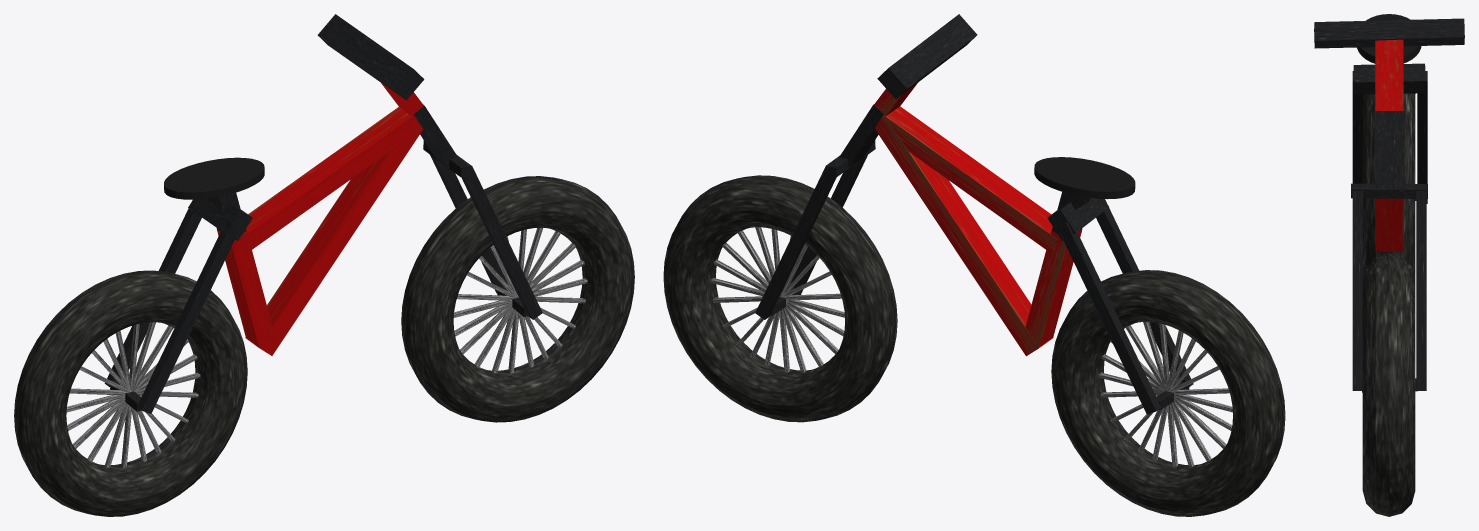
Rendered from bike.fbx.
3 renders of one model, left to right at view 1: azimuth 30°, elevation 25°; view 2: azimuth 150°, elevation 25°; view 3: azimuth 270°, elevation 25°, orthographic.
Parts seen in each view (by area): view 1: Torus, Torus.001, Cube.016, Cube.019, Cube.021, Cube.036, Cylinder, Cube.017, Cube.013, Cube.034, Cube.035, Cube (+8 smaller); view 2: Torus, Torus.001, Cube.016, Cube.019, Cube.034, Cylinder, Cube.036, Cube.017, Cube, Cube.021, Cube.035, Cube.015 (+8 smaller); view 3: Torus, Torus.001, Cube.036, Cube.015, Cube, Cube.013, Cube.020, Cube.016, Cube.035, Cube.034, Cube.021, Cube.014 (+1 smaller).
Boxes of the visible parts, bbox=[...] form: Torus: bbox=[401, 176, 634, 422]; Torus.001: bbox=[14, 270, 247, 516]; Cube.016: bbox=[245, 115, 423, 355]; Cube.019: bbox=[246, 107, 419, 249]; Cube.021: bbox=[137, 219, 240, 413]; Cube.036: bbox=[317, 14, 424, 100]; Cylinder: bbox=[164, 157, 264, 199]; Cube.017: bbox=[217, 229, 275, 347]; Cube.013: bbox=[461, 166, 542, 319]; Cube.034: bbox=[104, 208, 201, 387]; Cube.035: bbox=[188, 198, 252, 240]; Cube: bbox=[430, 155, 508, 293]; Torus: bbox=[663, 175, 897, 422]; Torus.001: bbox=[1051, 270, 1285, 516]; Cube.016: bbox=[874, 115, 1053, 356]; Cube.019: bbox=[885, 106, 1057, 252]; Cube.034: bbox=[1057, 222, 1161, 414]; Cylinder: bbox=[1034, 157, 1135, 199]; Cube.036: bbox=[877, 14, 977, 99]; Cube.017: bbox=[1025, 230, 1081, 347]; Cube: bbox=[755, 167, 836, 319]; Cube.021: bbox=[1096, 198, 1193, 386]; Cube.035: bbox=[1047, 198, 1108, 240]; Cube.015: bbox=[839, 104, 883, 167]; Torus: bbox=[1362, 253, 1415, 516]; Torus.001: bbox=[1362, 93, 1415, 278]; Cube.036: bbox=[1314, 18, 1464, 48]; Cube.015: bbox=[1374, 111, 1404, 188]; Cube: bbox=[1416, 191, 1426, 390]; Cube.013: bbox=[1352, 191, 1362, 390]; Cube.020: bbox=[1375, 39, 1403, 110]; Cube.016: bbox=[1375, 198, 1403, 251]; Cube.035: bbox=[1353, 63, 1425, 94]; Cube.034: bbox=[1417, 71, 1427, 203]; Cube.021: bbox=[1352, 71, 1362, 183]; Cube.014: bbox=[1351, 183, 1427, 198].
Size of the model in its own units: 677 by 434 by 143.
